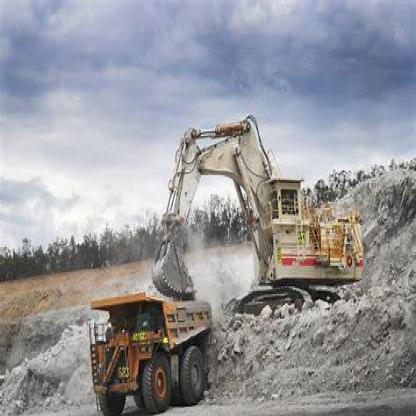dump_truck: (80, 291, 213, 414)
excavator: (159, 109, 370, 316)
